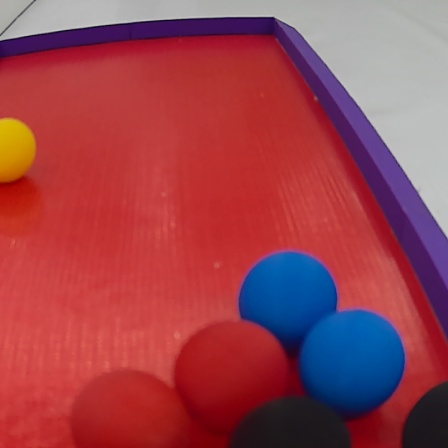black: (232, 392, 354, 448)
blue: (296, 308, 409, 418), (239, 247, 338, 352)
red: (171, 315, 297, 431), (69, 364, 190, 448)
red_aim: (0, 14, 448, 448)
yellow: (0, 114, 36, 187)
